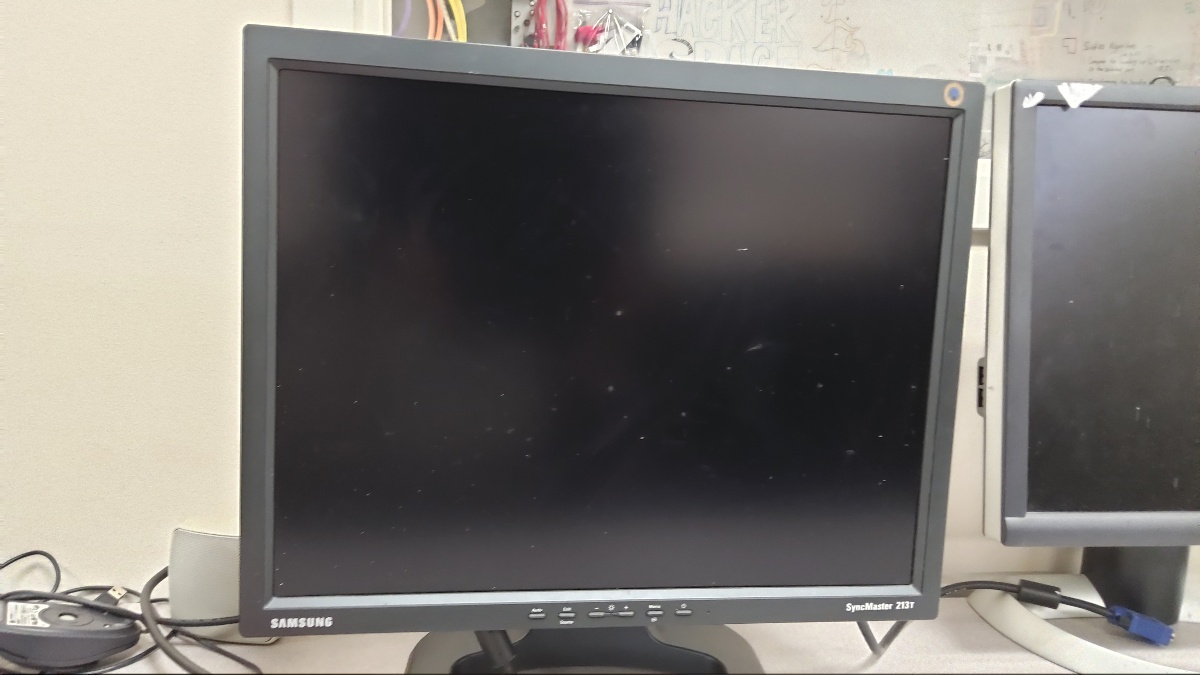monitor: (212, 5, 991, 656)
